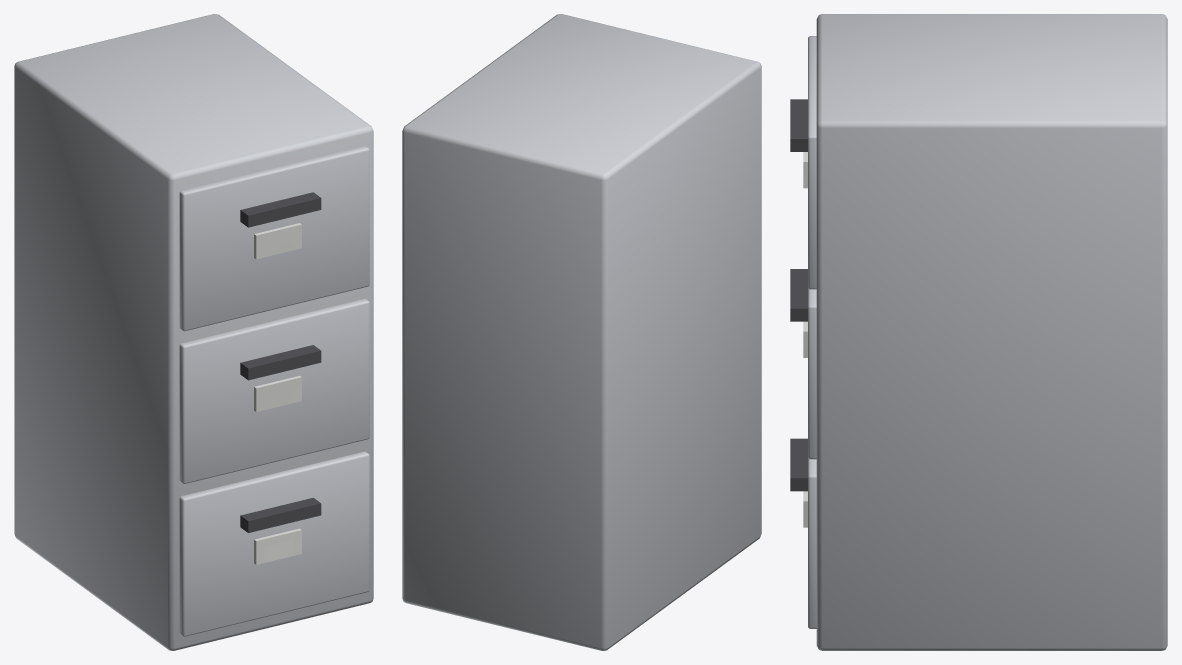
3 renders of one model, left to right at view 1: azimuth 30°, elevation 25°; view 2: azimuth 150°, elevation 25°; view 3: azimuth 270°, elevation 25°, orthographic. The views are drawn at different scales.
Visible parts, largest first — view 1: Decor_filing_cabinet; view 2: Decor_filing_cabinet; view 3: Decor_filing_cabinet.
Part boxes in pixels (x1,y1,x2,y2): Decor_filing_cabinet: (14,14,373,650); Decor_filing_cabinet: (402,14,761,650); Decor_filing_cabinet: (790,14,1167,650).
Bounding box in the file's own units: 0.45 × 1 × 0.645.
Materials: 3 (1 with a texture image).
